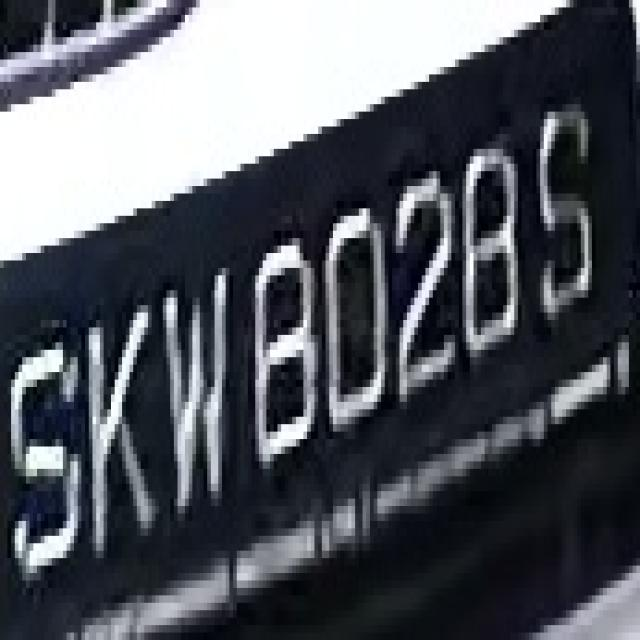0: (307, 179, 396, 439)
2: (392, 149, 463, 409)
8: (237, 231, 318, 469), (452, 112, 526, 357)
K: (81, 283, 152, 573)
S: (522, 97, 599, 350), (11, 305, 78, 581)
W: (159, 253, 241, 536)
